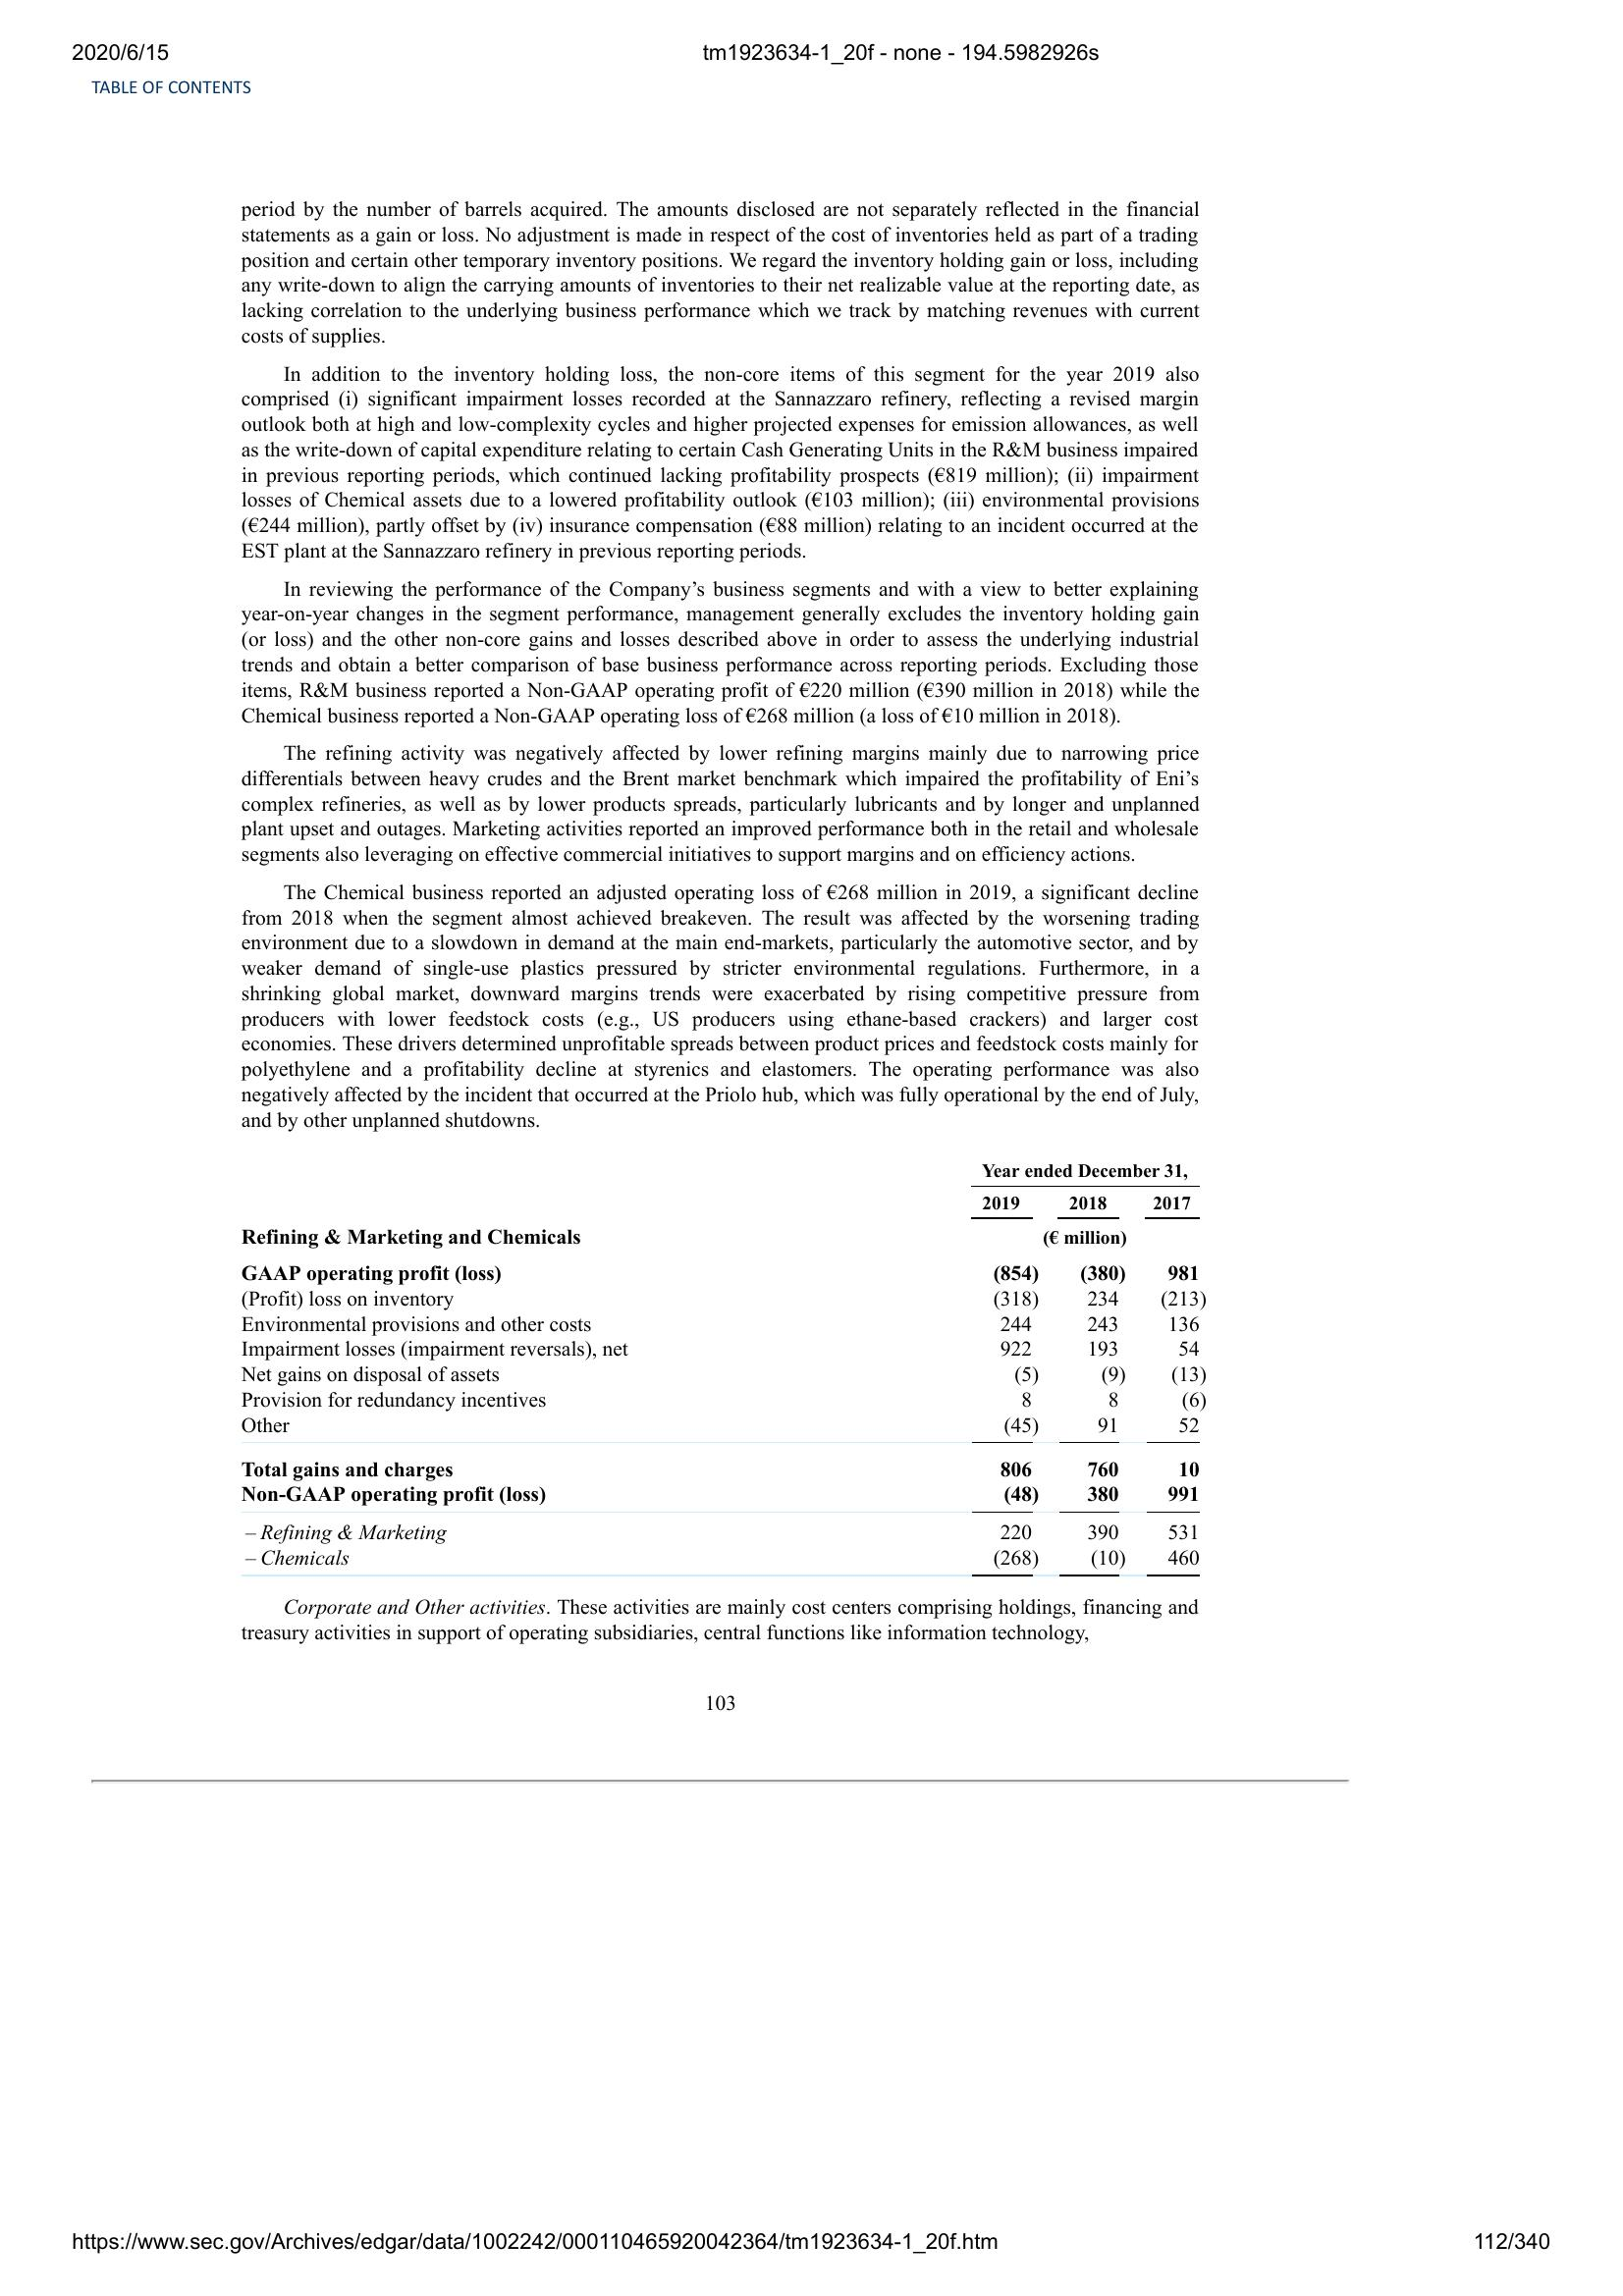table: (235, 1153, 1205, 1582)
